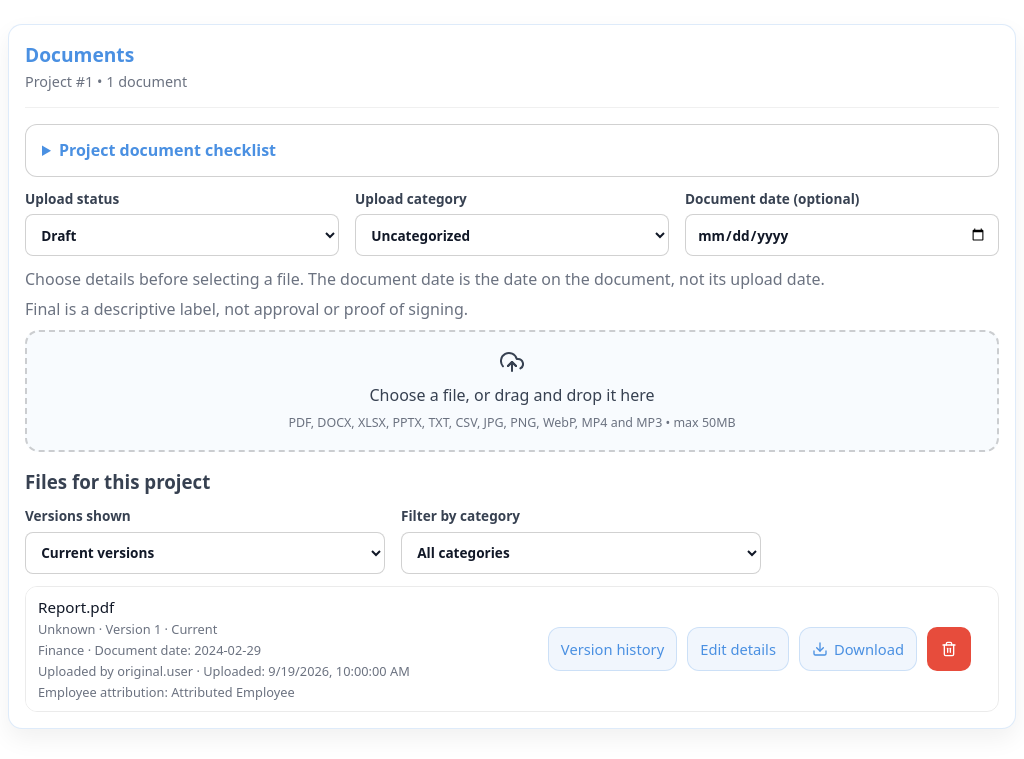
Test: validation errors keep the edit form open and explain the invalid field
The image size is (1024, 759).
Expected: the text "Report.pdf" is shown, [38, 597, 114, 617]
Click the button "Edit details".
click(738, 649)  # box [687, 627, 789, 671]
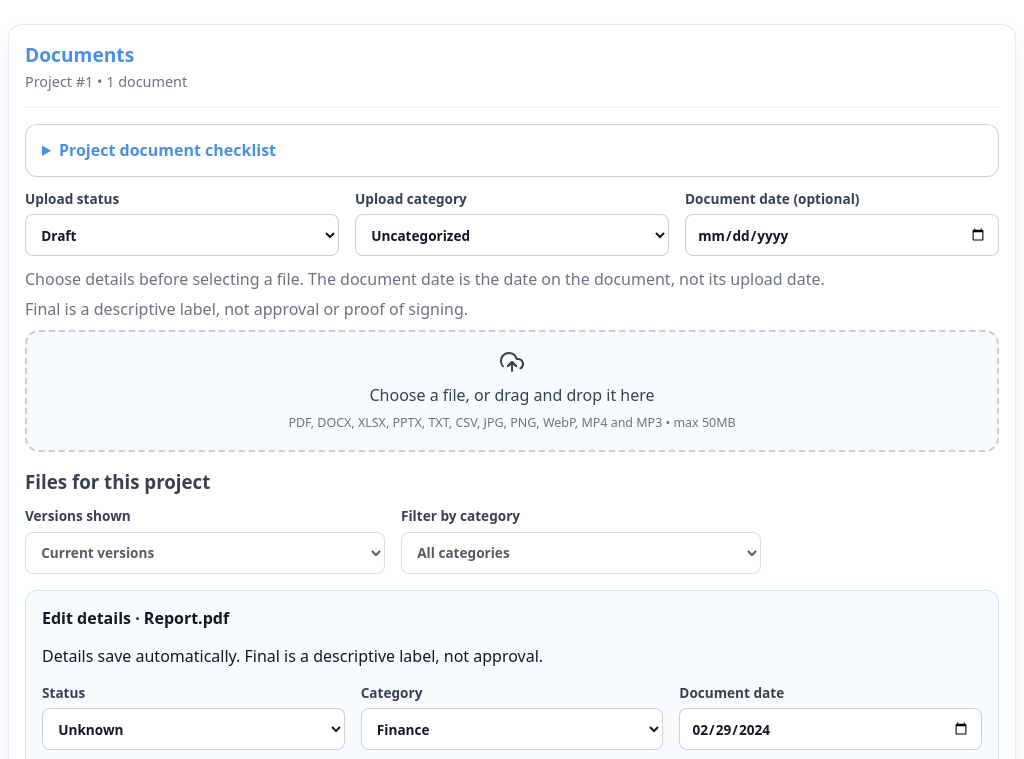
Type "2024-03-01" into the date field labelled "Document date".
click(831, 729); type("2024-03-01")  # box [679, 708, 982, 750]
(page scrolled)
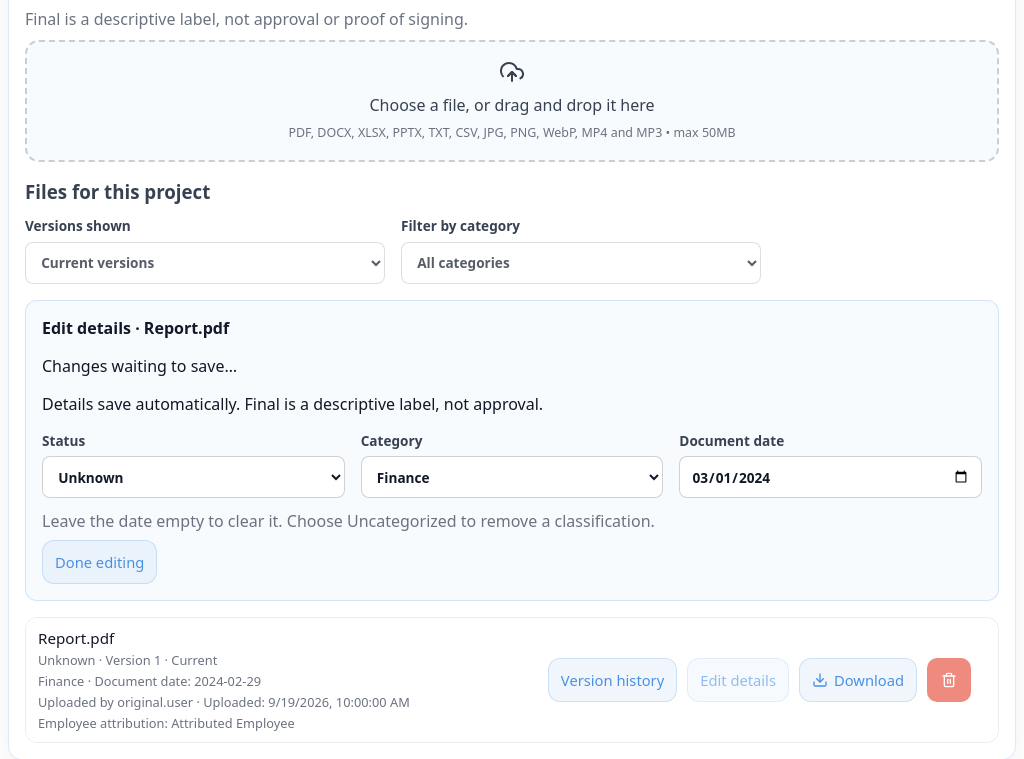
Leave the date field labelled "Document date", box [679, 456, 982, 498]
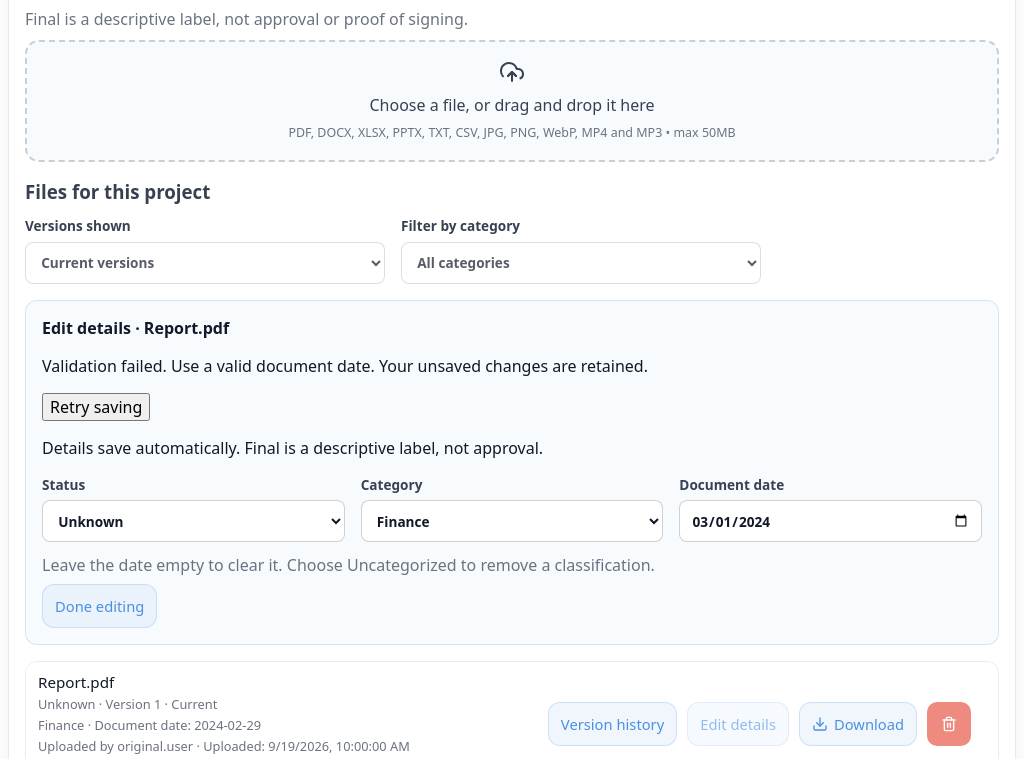
Expected: the message shows "Use a valid document date.", [42, 355, 648, 377]
